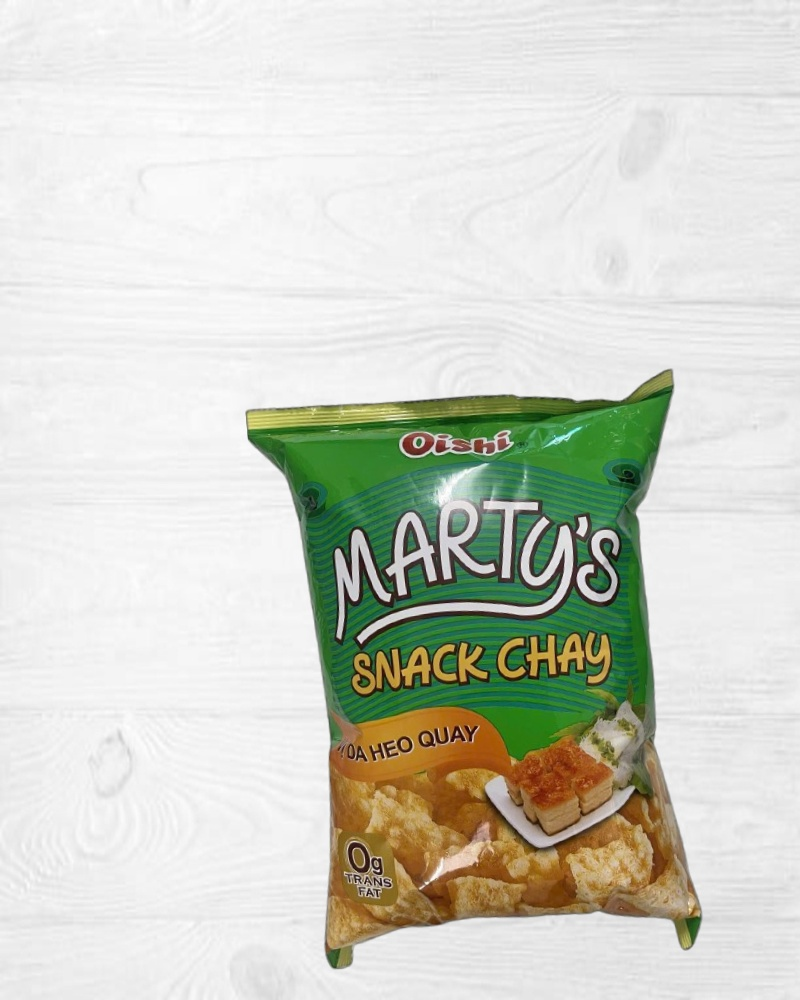Snack chay: (246, 369, 724, 985)
